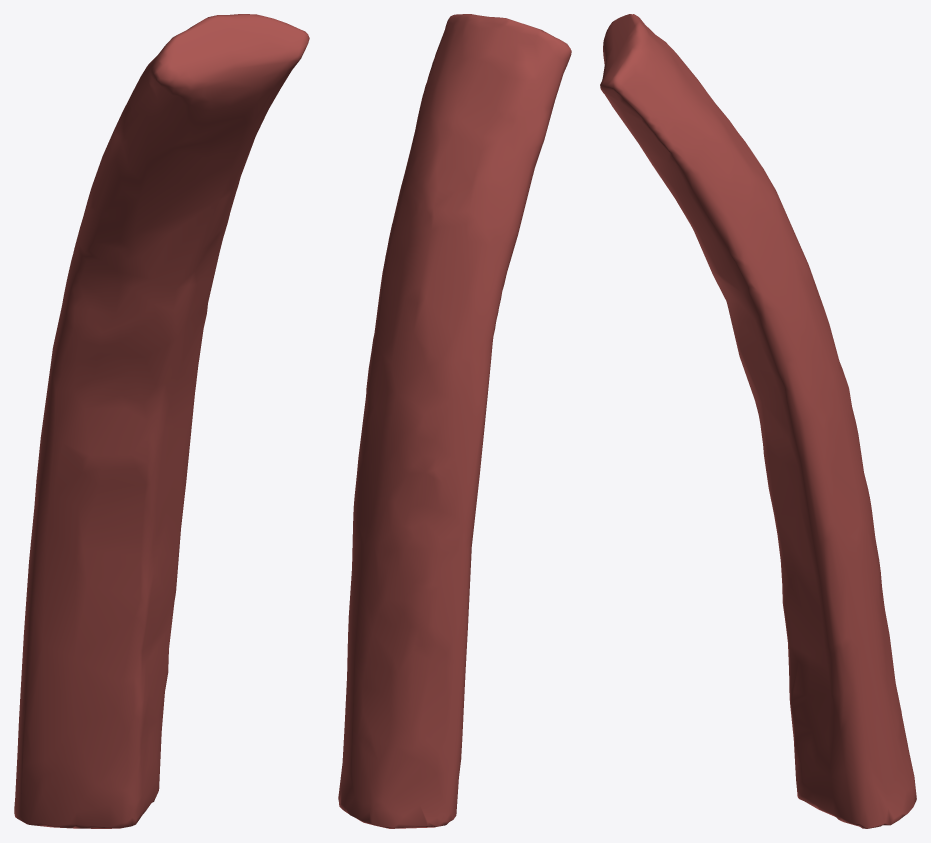
Rendered from FMA78467.glb.
3 renders of one model, left to right at view 1: azimuth 30°, elevation 25°; view 2: azimuth 150°, elevation 25°; view 3: azimuth 270°, elevation 25°, orthographic. The views are drawn at different scales.
Parts seen in each view (by area): view 1: FMA78467; view 2: FMA78467; view 3: FMA78467.
Part boxes in pixels (x1,y1,x2,y2): FMA78467: (14, 14, 309, 828); FMA78467: (338, 14, 571, 828); FMA78467: (600, 14, 916, 828).
Size of the model in its own units: 0.00303 by 0.0167 by 0.00617.
